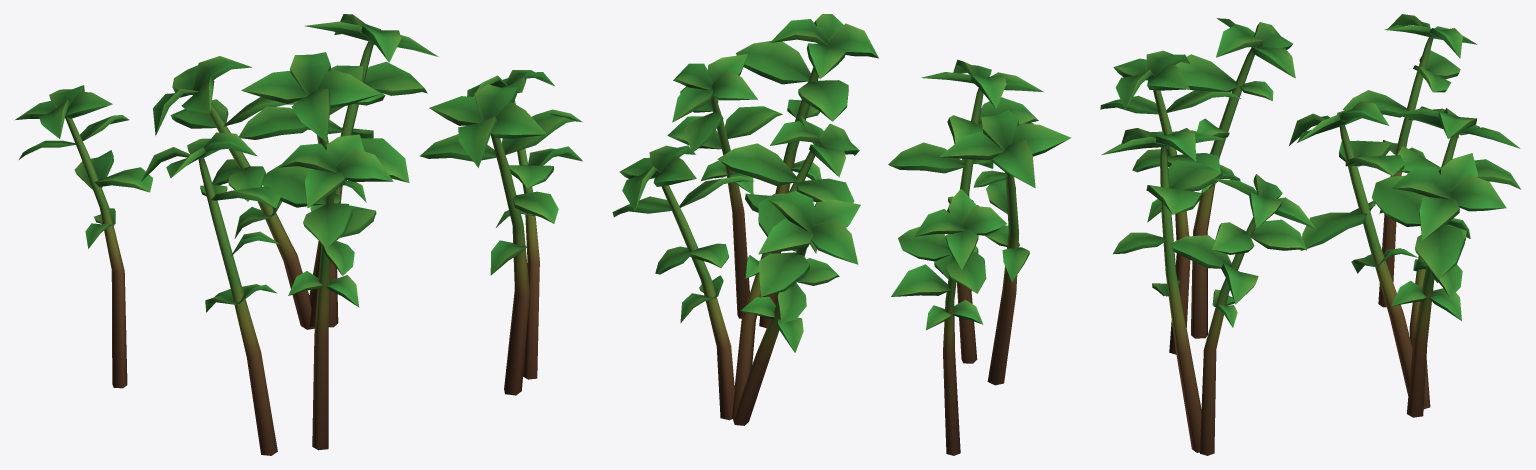
Rendered from SM_Plant_Potato_Lv3.fbx.
The picture shows the model from 3 angles, left to right: view 1: azimuth 30°, elevation 25°; view 2: azimuth 150°, elevation 25°; view 3: azimuth 270°, elevation 25°; orthographic projection. The views are drawn at different scales.
Parts seen in each view (by area): view 1: SM_Plant_Potato_Lv3; view 2: SM_Plant_Potato_Lv3; view 3: SM_Plant_Potato_Lv3.
Boxes of the visible parts, left/top/right/bottom form: SM_Plant_Potato_Lv3: left=14, top=14, right=582, bottom=455; SM_Plant_Potato_Lv3: left=612, top=14, right=1071, bottom=455; SM_Plant_Potato_Lv3: left=1100, top=14, right=1521, bottom=455.
Bounding box in the file's own units: 59.9 × 40.48 × 50.71.
